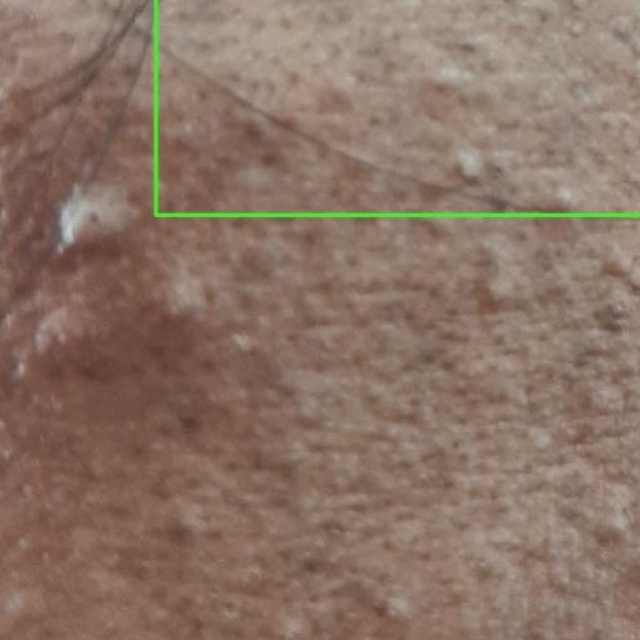Atopic Dermatitis: (155, 0, 639, 215)
